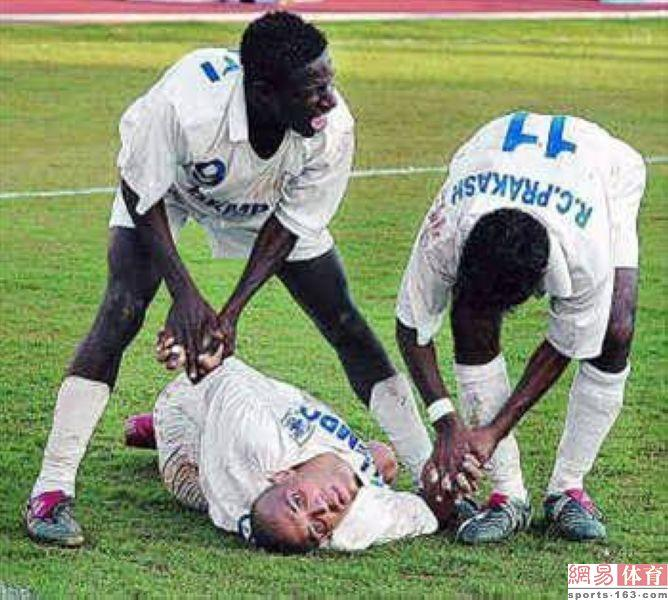bending: (21, 13, 437, 551), (379, 95, 653, 553)
down: (119, 337, 449, 559)
